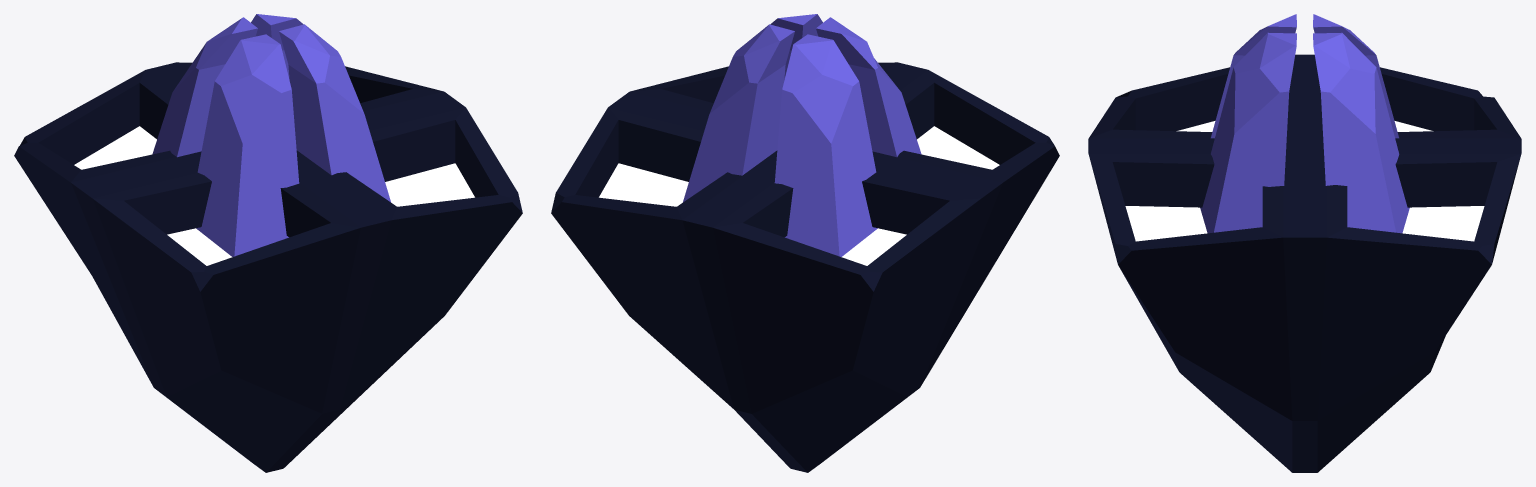
File: randomtex.gltf
3 renders of one model, left to right at view 1: azimuth 30°, elevation 25°; view 2: azimuth 150°, elevation 25°; view 3: azimuth 270°, elevation 25°, orthographic.
Visible parts, largest first — view 1: Cube; view 2: Cube; view 3: Cube.
Part boxes in pixels (x1,y1,x2,y2): Cube: (14, 14, 522, 472); Cube: (551, 14, 1059, 472); Cube: (1088, 14, 1521, 472).
Size of the model in its own units: 2.32 by 2.59 by 2.32.
